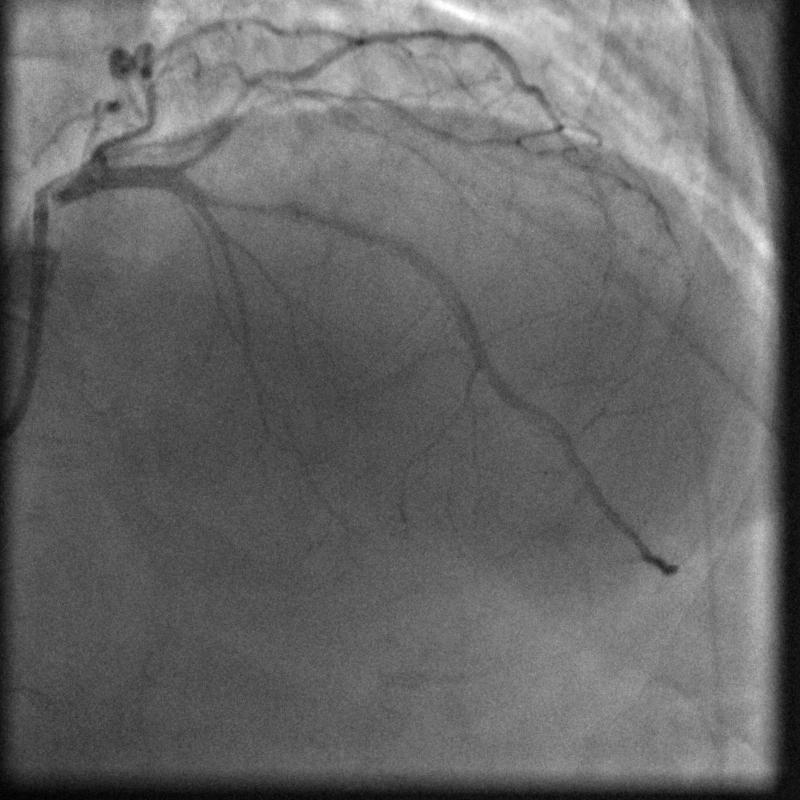Stenosis: (221, 186, 285, 219)
